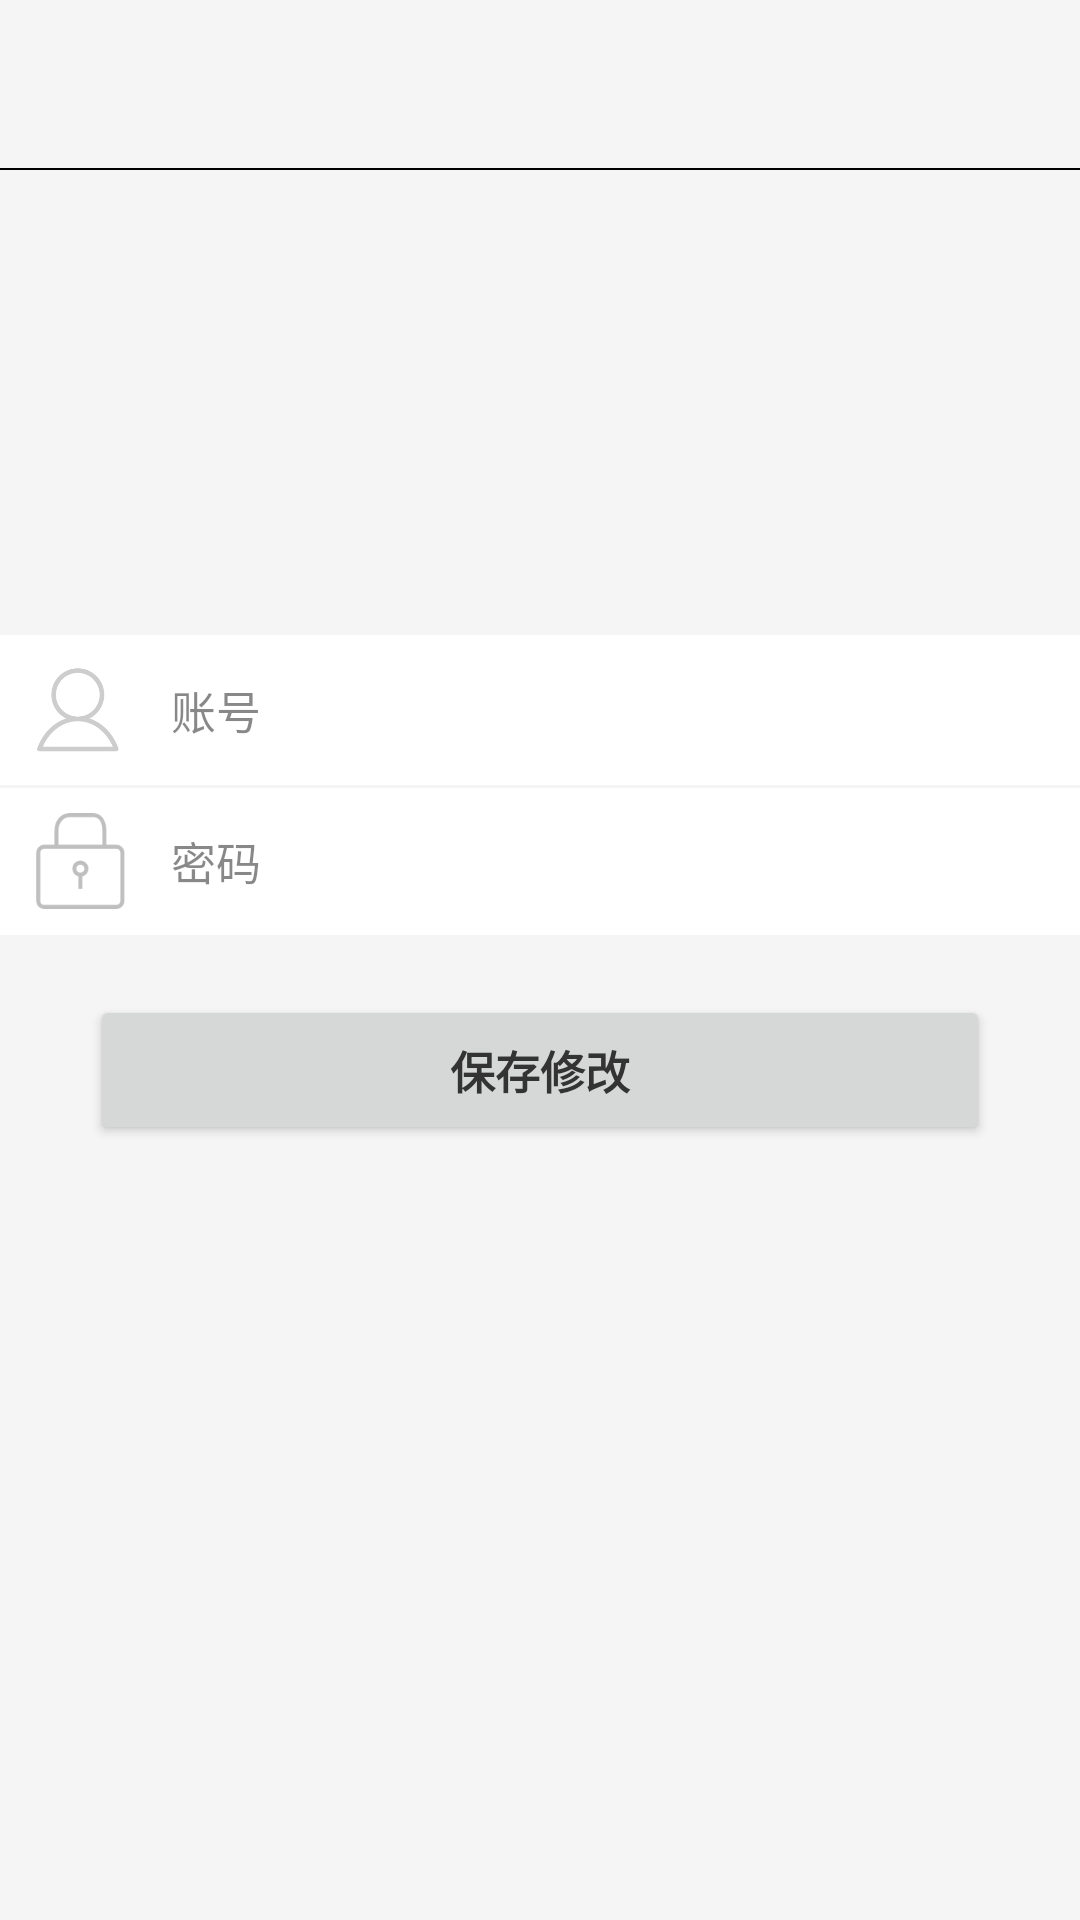

Icon bounding boxes for this 1080px x 1920px phone screenshot, format [x1=x1, y1=y1, x2=x2, y2=y2]:
account: [x1=37, y1=668, x2=118, y2=751]
lock: [x1=36, y1=813, x2=125, y2=909]
